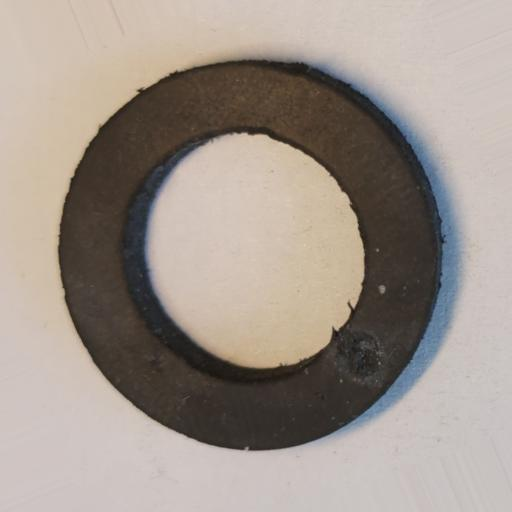defect: (331, 330, 386, 388), (148, 354, 165, 372)
